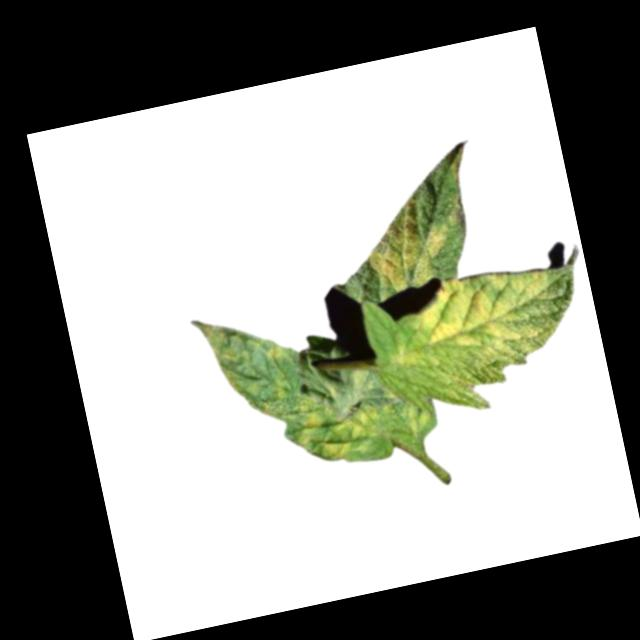Leaf_Mold: (414, 257, 569, 382), (357, 190, 455, 297), (334, 394, 396, 441), (385, 333, 429, 376), (289, 394, 324, 446), (320, 436, 355, 464), (265, 338, 290, 361)
